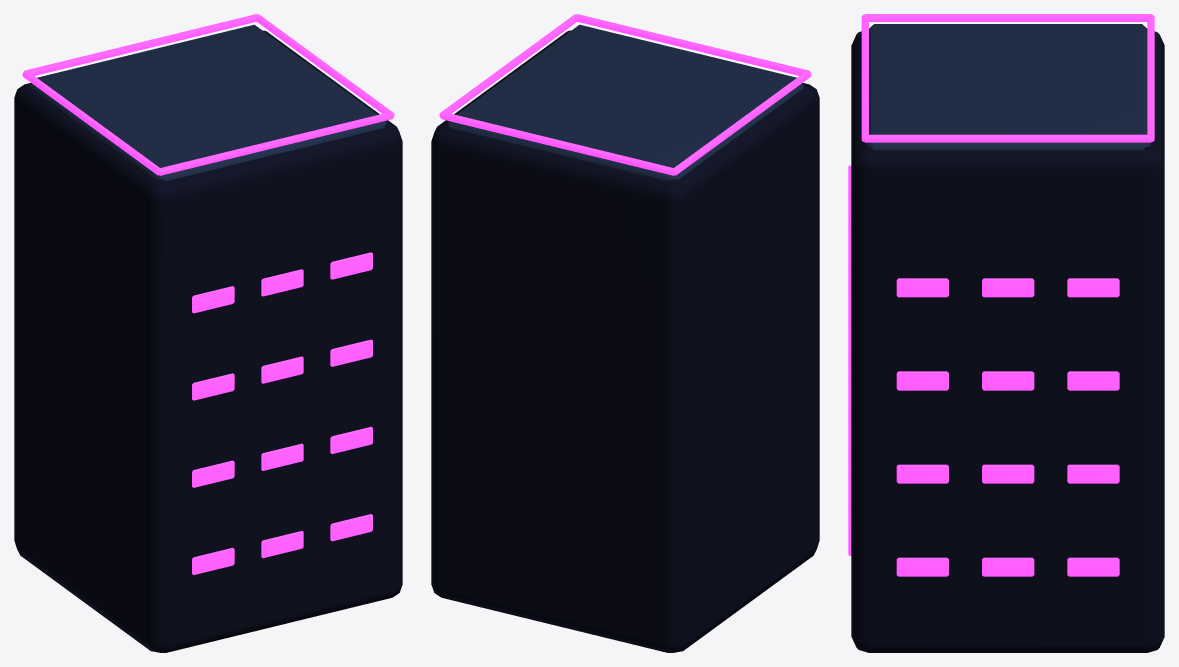
File: NT_Backdrop_Block_Magenta.fbx
3 views of the same model, side by side, from view 1: azimuth 30°, elevation 25°; view 2: azimuth 150°, elevation 25°; view 3: azimuth 270°, elevation 25° (orthographic). The views are drawn at different scales.
Parts seen in each view (by area): view 1: NT_Backdrop_Block_Magenta__BackdropMesh; view 2: NT_Backdrop_Block_Magenta__BackdropMesh; view 3: NT_Backdrop_Block_Magenta__BackdropMesh.
Boxes of the visible parts, x1=… form: NT_Backdrop_Block_Magenta__BackdropMesh: x1=14, y1=14, x2=402, y2=652; NT_Backdrop_Block_Magenta__BackdropMesh: x1=431, y1=14, x2=819, y2=652; NT_Backdrop_Block_Magenta__BackdropMesh: x1=848, y1=14, x2=1164, y2=652.
Size of the model in its own units: 1.82 by 3.29 by 1.82.
